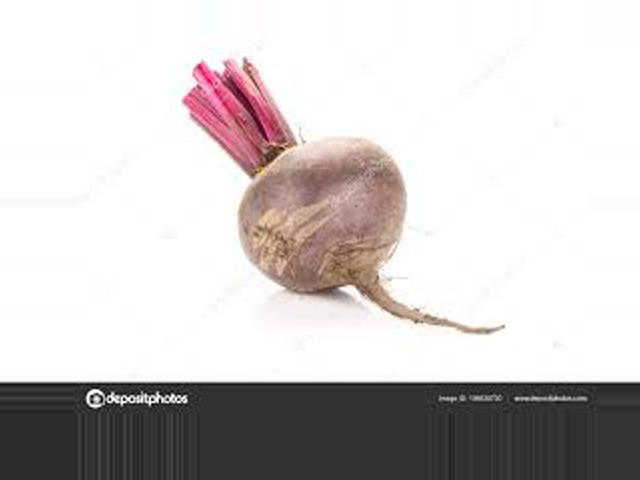beet: (185, 59, 505, 333)
